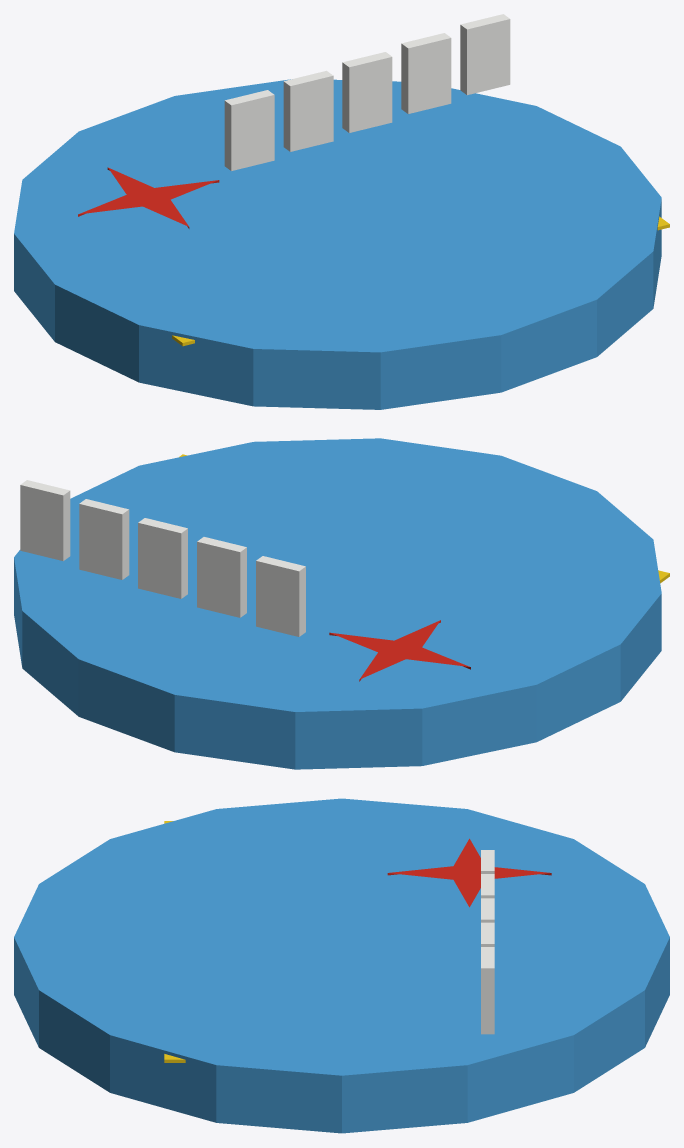
Rendered from sn_flagdisk.glb.
3 renders of one model, top to bottom at view 1: azimuth 30°, elevation 25°; view 2: azimuth 150°, elevation 25°; view 3: azimuth 270°, elevation 25°, orthographic.
Parts seen in each view (by area): view 1: sn_flagdisk_lod0; view 2: sn_flagdisk_lod0; view 3: sn_flagdisk_lod0.
Part boxes in pixels (<box>): sn_flagdisk_lod0: <box>14,14,669,409</box>; sn_flagdisk_lod0: <box>14,438,669,769</box>; sn_flagdisk_lod0: <box>14,798,669,1133</box>.
Size of what is drawn, in the model's own units: 7.2 by 1.76 by 7.2.
